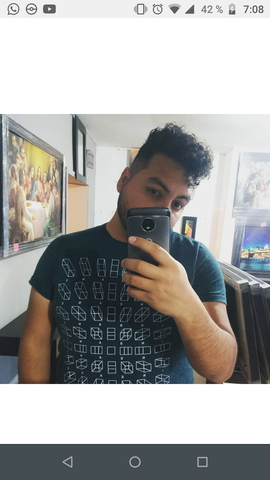Yoshi: (107, 107, 212, 249)
